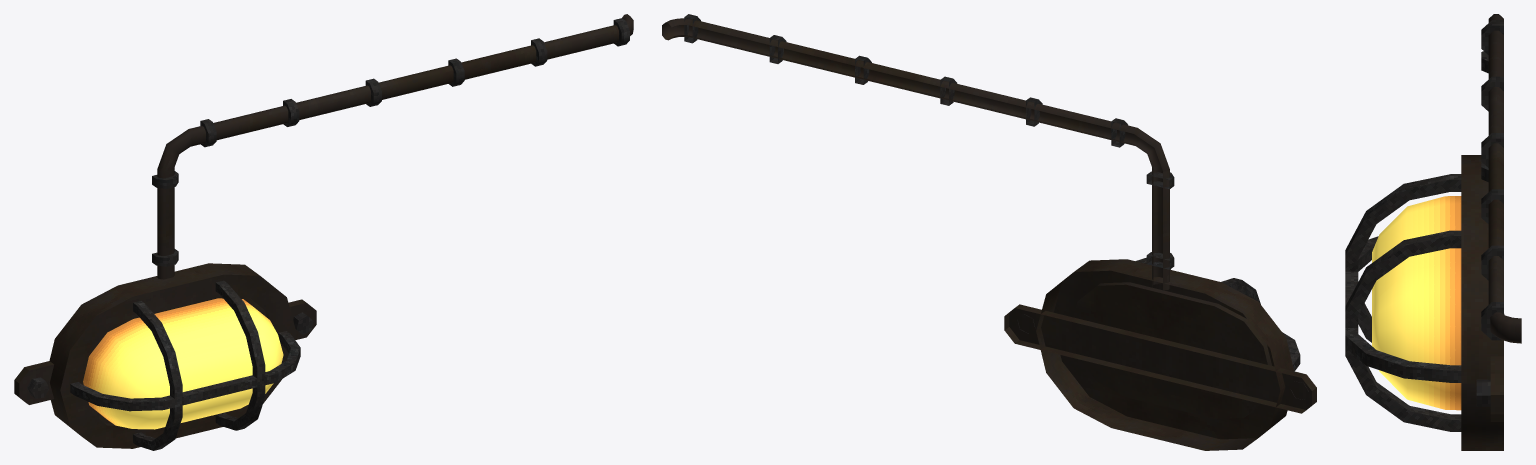
Rendered from lamp_1_1_on.glb.
The picture shows the model from 3 angles, left to right: view 1: azimuth 30°, elevation 25°; view 2: azimuth 150°, elevation 25°; view 3: azimuth 270°, elevation 25°; orthographic projection. The views are drawn at different scales.
Parts seen in each view (by area): view 1: lamp_1_1_on; view 2: lamp_1_1_on; view 3: lamp_1_1_on.
Boxes of the visible parts, box(x1,y1,x2,y2) form: lamp_1_1_on: box(14, 14, 633, 450); lamp_1_1_on: box(662, 14, 1316, 450); lamp_1_1_on: box(1345, 14, 1521, 450).
Size of the model in its own units: 0.7532 by 0.343 by 0.1323.
3 materials, 3 textured.
